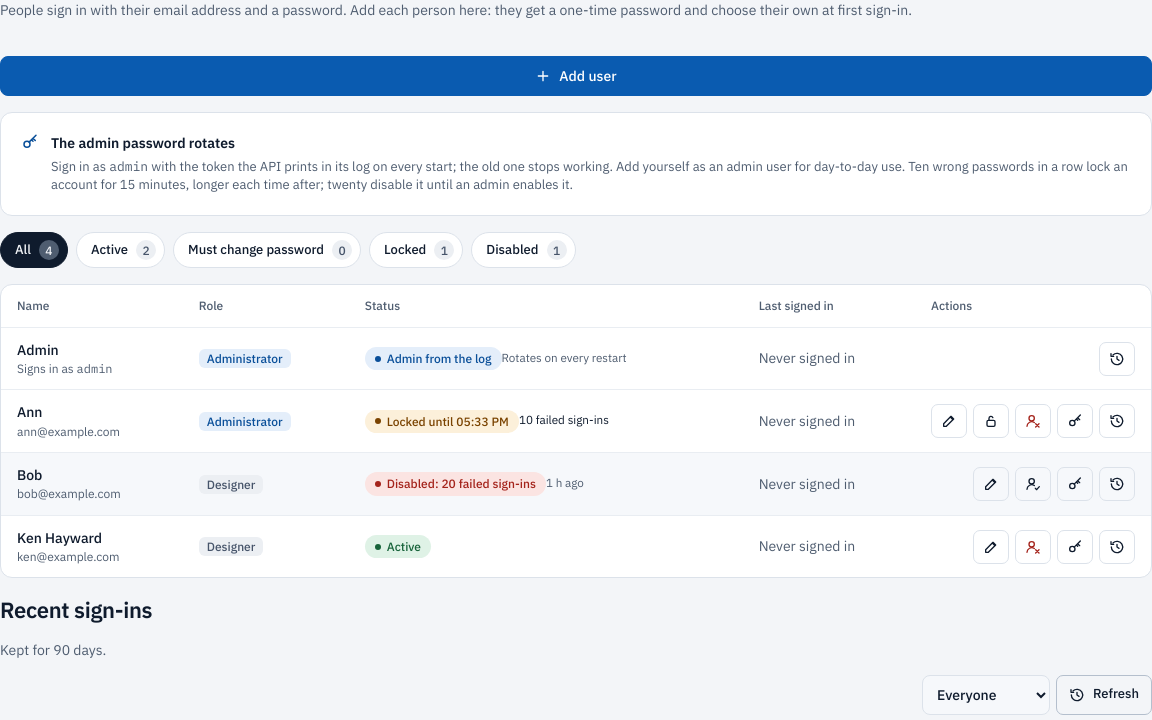
Scenario: AccessPage › keeps a refused add in the dialog
Click the button "Add user" at (576, 76), box [0, 56, 1151, 96]
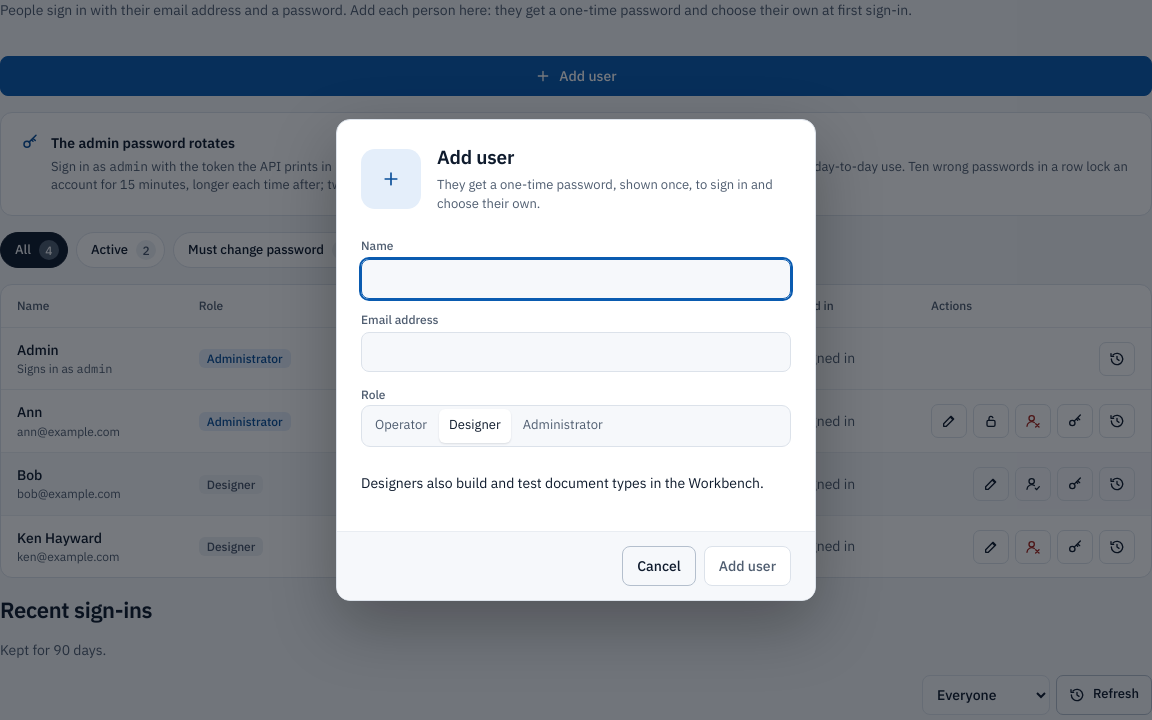
Type "Ken 2" into the field labelled "Name" at (576, 279), box [361, 259, 791, 299]
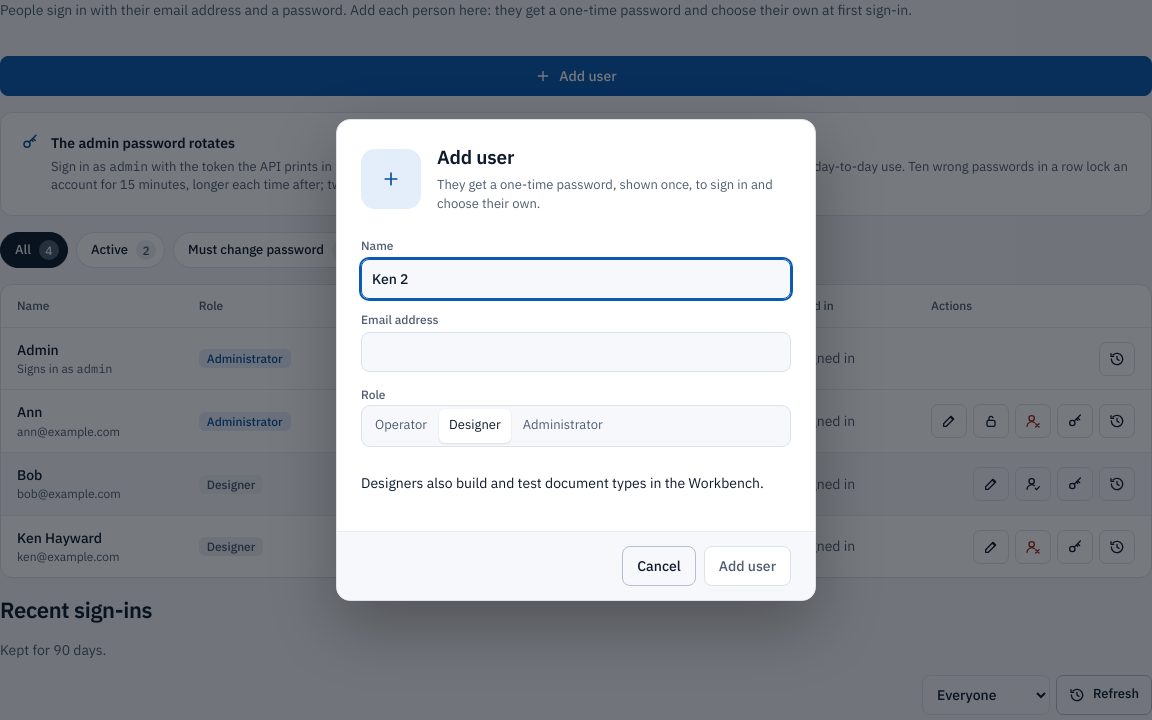
Type "ken@example.com" into the field labelled "Email address" at (576, 352), box [361, 332, 791, 372]
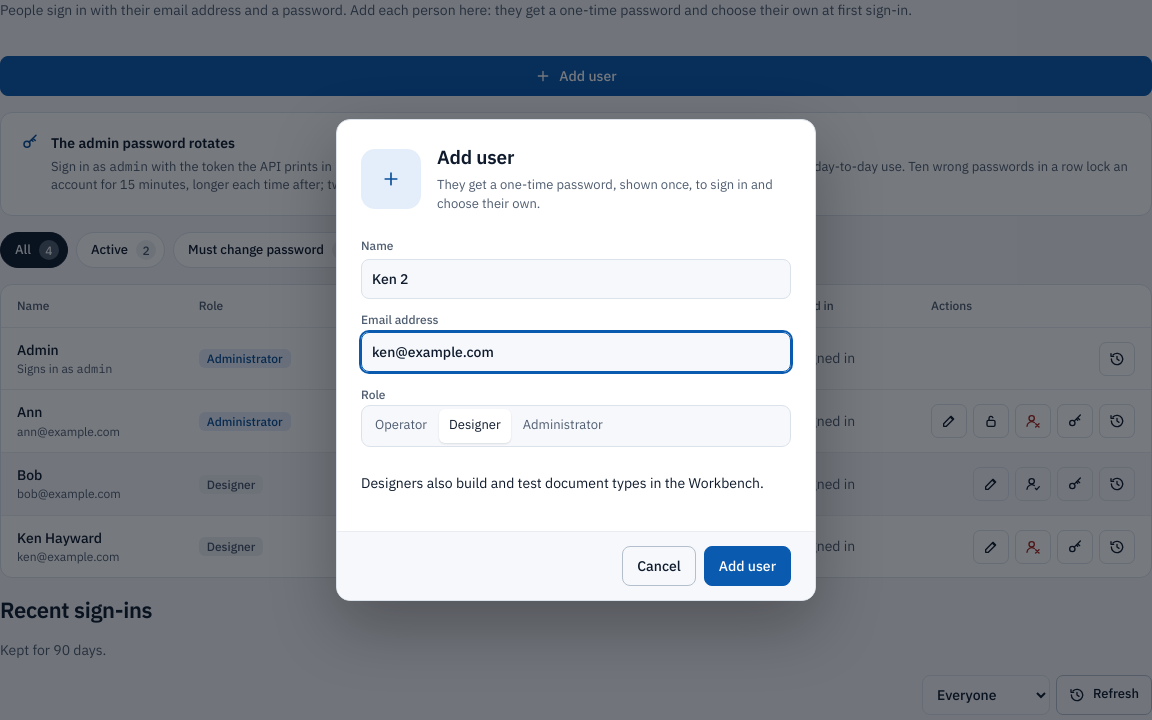
Click the 2nd button "Add user" at (747, 566), box [704, 546, 791, 586]
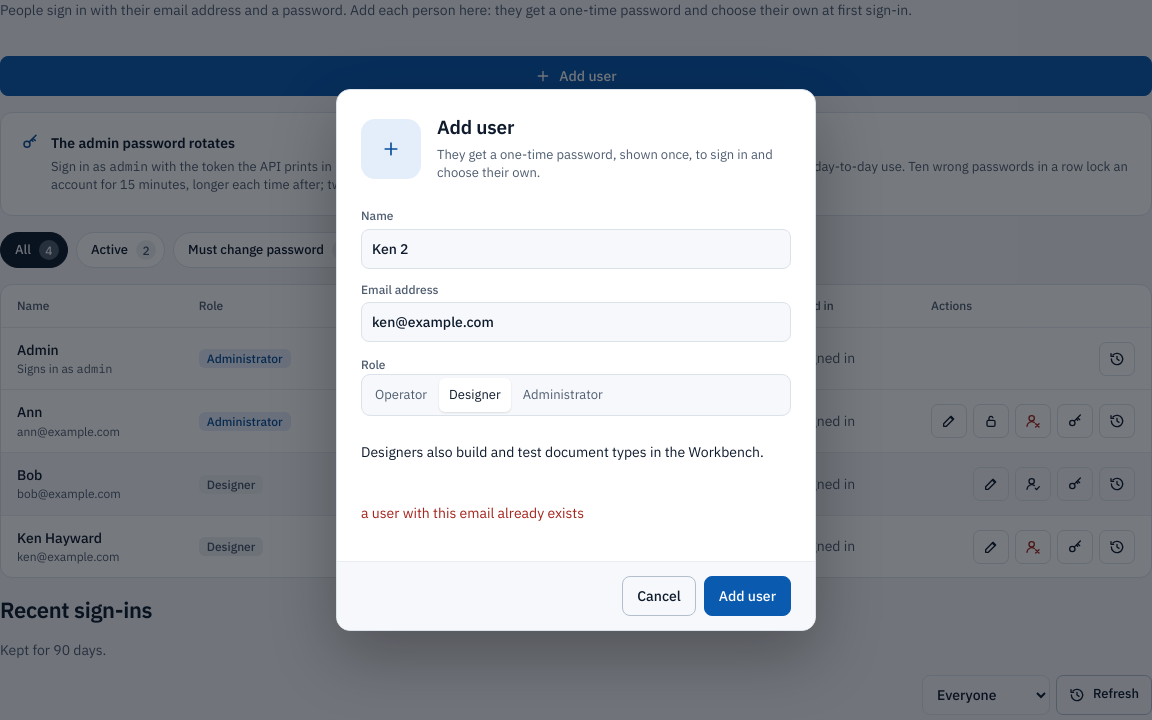
Expected: the message reads "a user with this email already exists", [361, 504, 584, 522]
